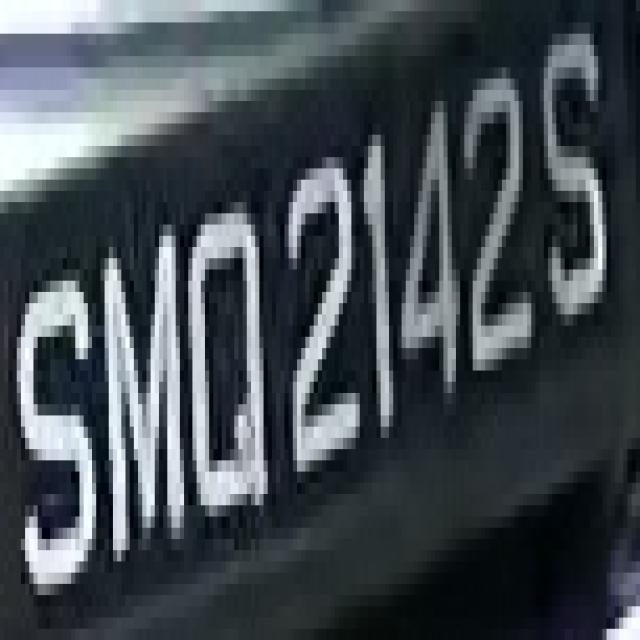1: (356, 112, 406, 449)
2: (444, 56, 536, 404), (268, 168, 368, 483)
4: (401, 67, 477, 449)
M: (105, 213, 184, 573)
Q: (180, 214, 284, 550)
S: (9, 236, 100, 629), (527, 0, 628, 337)
